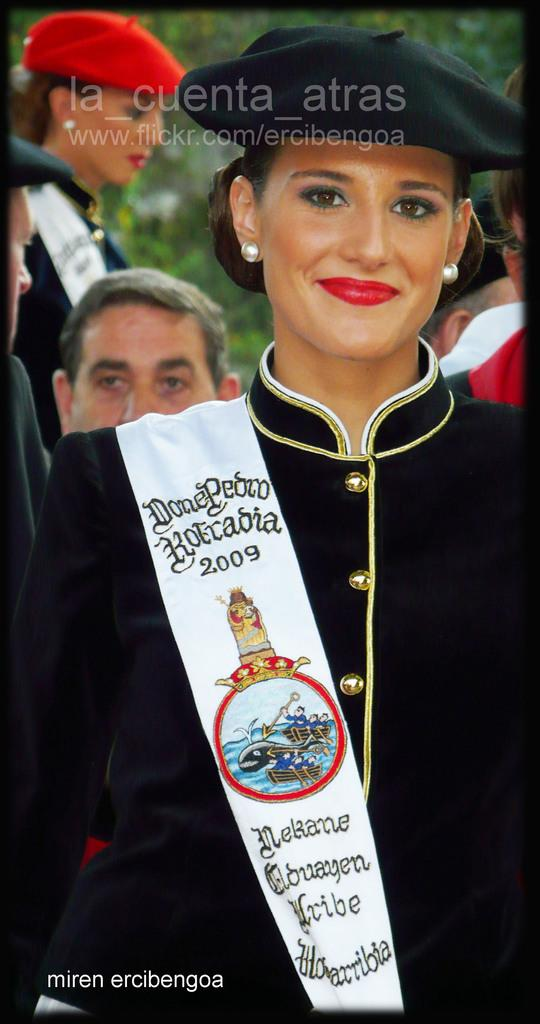Hat: (179, 24, 523, 176), (22, 10, 190, 104)
